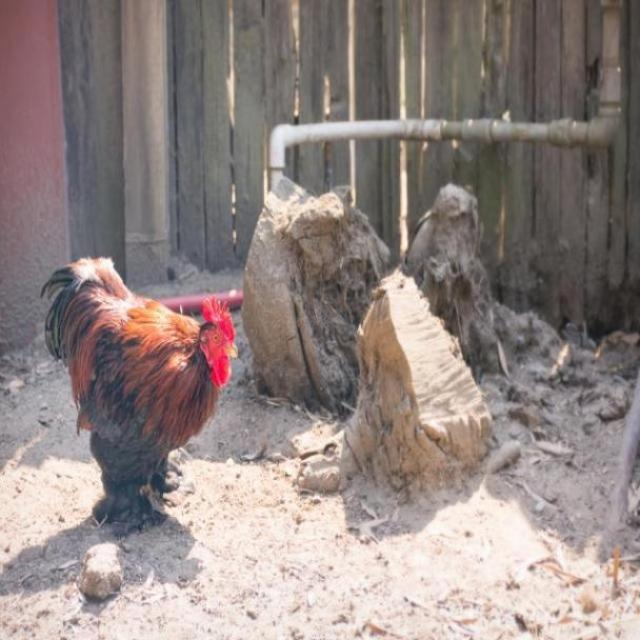Chicken: (39, 257, 238, 525)
